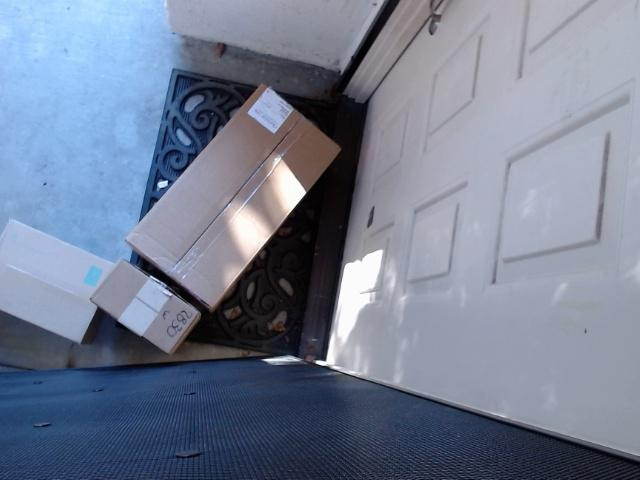box: (126, 71, 336, 327), (0, 207, 107, 342), (90, 250, 215, 362)
